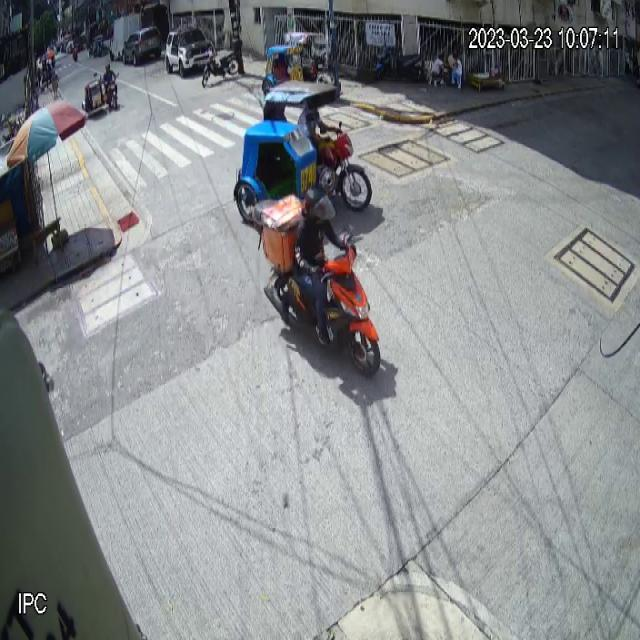Motorcycle: (256, 190, 382, 376)
Tricycle: (232, 80, 373, 228)
